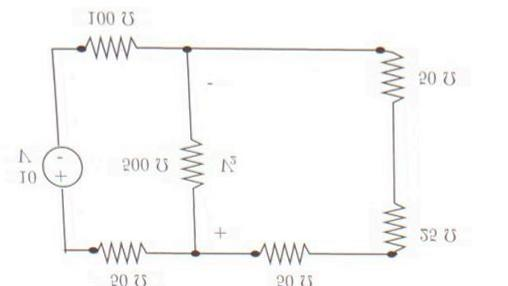resistor: (70, 26, 141, 69), (368, 39, 410, 107), (171, 126, 207, 196), (372, 191, 414, 251), (244, 235, 327, 263), (81, 231, 155, 262)
